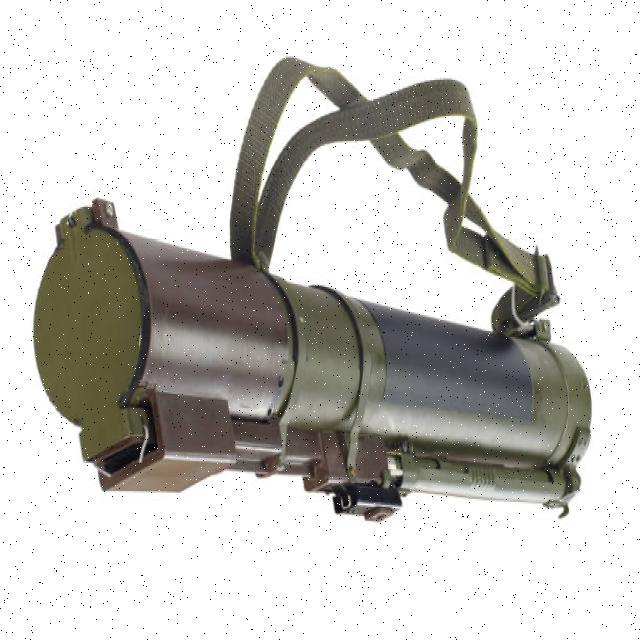bazooka: (23, 196, 603, 547)
